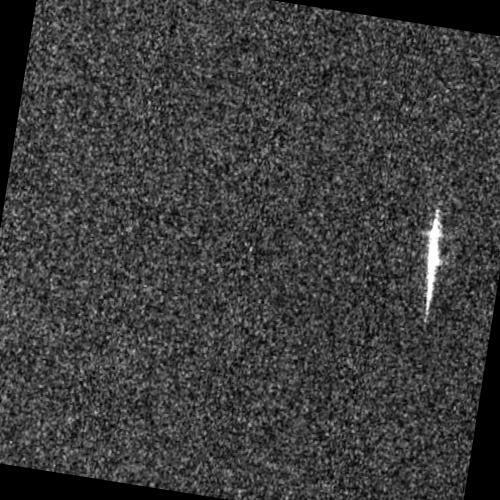ship: (424, 216, 442, 321)
